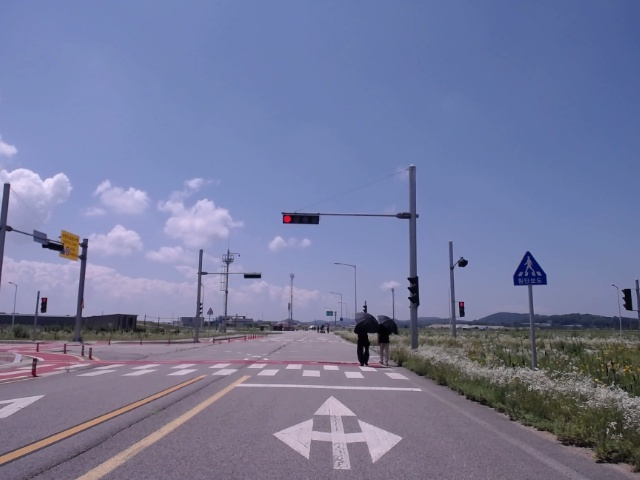red_4: (282, 215, 320, 224)
